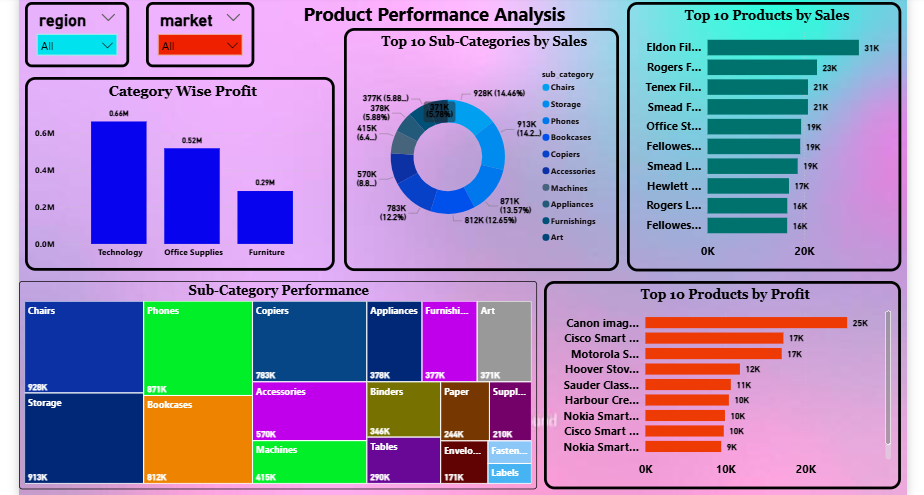

This screenshot's page, from the dashboard's own definition file:
{"tool":"powerbi","page":{"name":"Product Performance Analysis","canvas":[1280,720],"ordinal":1},"visuals":[{"type":"clusteredBarChart","title":"Top 10 Products by Sales","fields":{"Category":["cleaned_sales_data.product_name"],"Y":["Sum(cleaned_sales_data.sales)"]},"box":[875.1,7.3,395.1,387.8],"z":0},{"type":"clusteredBarChart","title":"Top 10 Products by Profit","fields":{"Category":["cleaned_sales_data.product_name"],"Y":["Sum(cleaned_sales_data.profit)"]},"box":[756.6,408.3,513.7,300],"z":1000},{"type":"donutChart","title":"Top 10 Sub-Categories by Sales","fields":{"Category":["cleaned_sales_data.sub_category"],"Y":["Sum(cleaned_sales_data.sales)"]},"box":[468,44.6,396,349.9],"z":2000},{"type":"treemap","title":"Sub-Category Performance","fields":{"Group":["cleaned_sales_data.sub_category"],"Values":["Sum(cleaned_sales_data.sales)"]},"box":[0,409,745.9,299.5],"z":3000},{"type":"clusteredColumnChart","title":"Category Wise Profit","fields":{"Category":["cleaned_sales_data.category"],"Y":["Sum(cleaned_sales_data.profit)"]},"box":[8.6,115.2,446.4,279.4],"z":4000},{"type":"slicer","fields":{"Values":["cleaned_sales_data.market"]},"box":[182.9,7.2,155.5,93.6],"z":5000},{"type":"slicer","fields":{"Values":["cleaned_sales_data.region"]},"box":[8.6,7.2,149.8,93.6],"z":6000},{"type":"textbox","box":[404.6,0,469.4,67.7],"z":7000}]}

Visuals, with their boxes in screenshot pixels (x1, y1, x2, y2):
"Top 10 Products by Sales" clusteredBarChart: (x1=628, y1=5, x2=896, y2=268)
"Top 10 Products by Profit" clusteredBarChart: (x1=547, y1=277, x2=896, y2=481)
"Top 10 Sub-Categories by Sales" donutChart: (x1=351, y1=30, x2=620, y2=268)
"Sub-Category Performance" treemap: (x1=34, y1=278, x2=540, y2=481)
"Category Wise Profit" clusteredColumnChart: (x1=40, y1=78, x2=343, y2=268)
slicer - cleaned_sales_data.market: (x1=158, y1=5, x2=263, y2=68)
slicer - cleaned_sales_data.region: (x1=40, y1=5, x2=141, y2=68)
textbox: (x1=308, y1=0, x2=627, y2=46)
